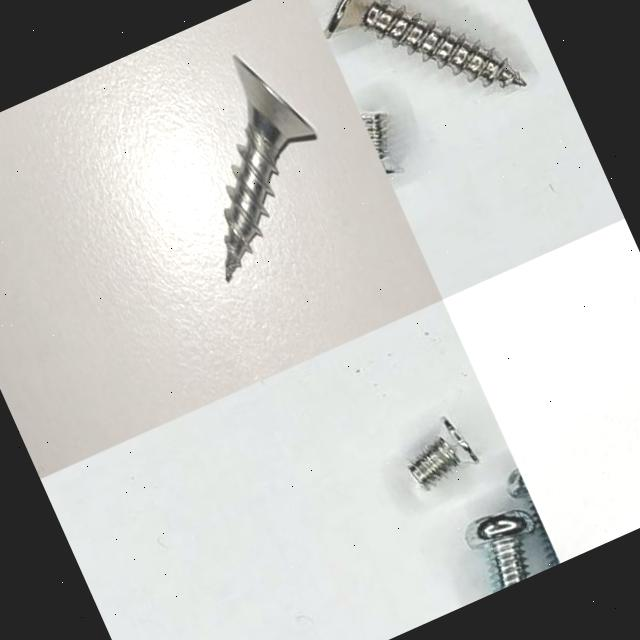Screw: (224, 54, 316, 281), (323, 0, 526, 89), (466, 510, 534, 593), (407, 416, 480, 490), (361, 115, 401, 175)
